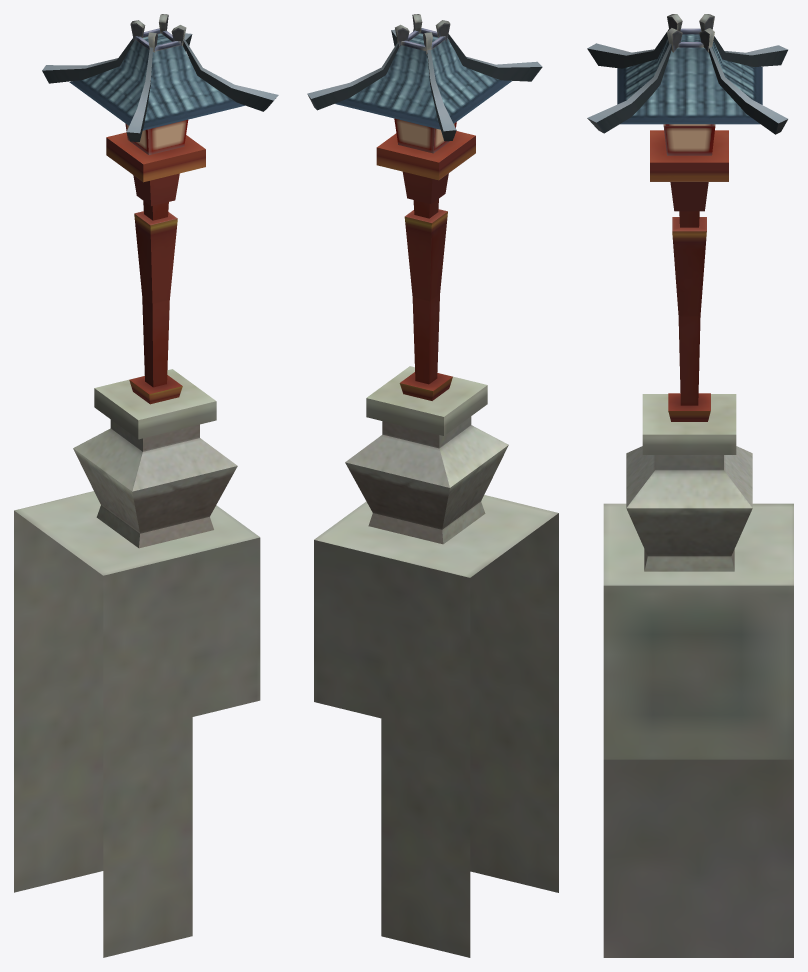
Rendered from FB_Xiaoshengxianzhuang_03.FBX.
3 views of the same model, side by side, from view 1: azimuth 30°, elevation 25°; view 2: azimuth 150°, elevation 25°; view 3: azimuth 270°, elevation 25° (orthographic). The views are drawn at different scales.
Parts seen in each view (by area): view 1: Object05, Object04, Object10; view 2: Object05, Object04, Object10; view 3: Object05, Object04, Object10.
Boxes of the visible parts, box(x1,y1,x2,y2) form: Object05: box(14, 491, 260, 957); Object04: box(42, 14, 278, 548); Object10: box(125, 119, 188, 154); Object05: box(314, 495, 558, 957); Object04: box(307, 14, 542, 544); Object10: box(394, 118, 456, 153); Object05: box(603, 503, 793, 957); Object04: box(587, 14, 787, 571); Object10: box(663, 124, 715, 155).
Size of the model in its own units: 1.58 by 7.72 by 1.54.
